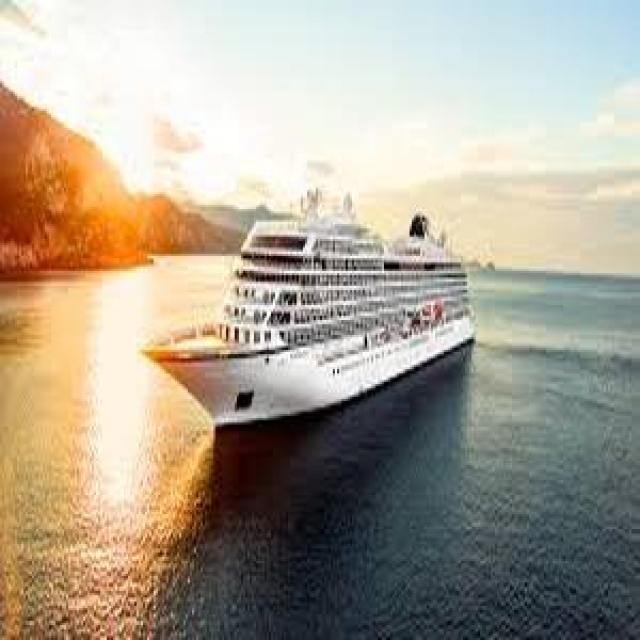passenger ship: (136, 190, 498, 430)
